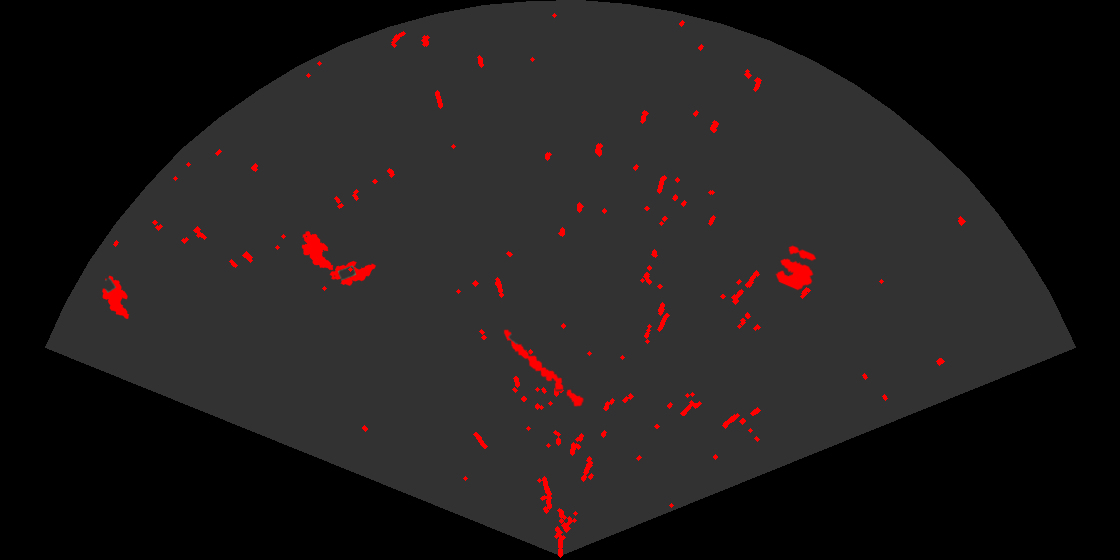AUV: (300, 229, 335, 272), (101, 274, 131, 321), (328, 259, 377, 287)
ball: (774, 244, 818, 292)
chain: (502, 328, 586, 408)
